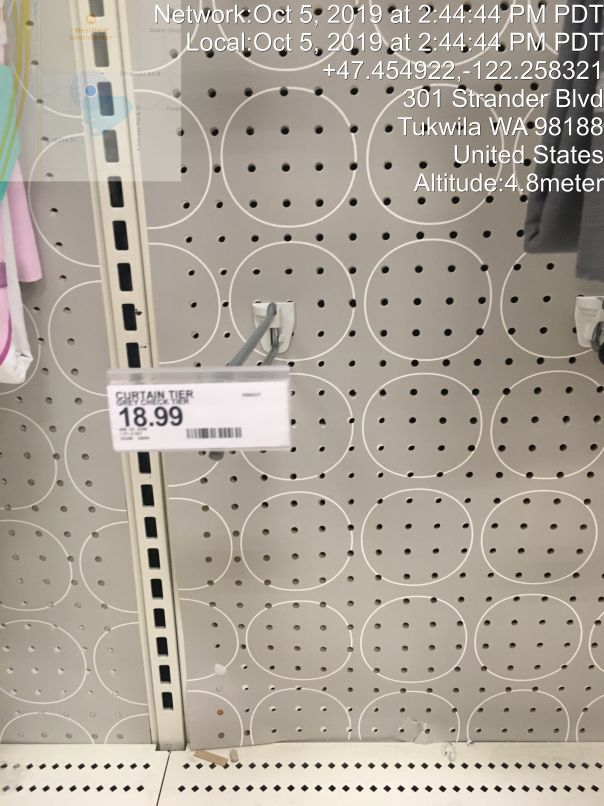Label: (98, 367, 299, 464)
Location: (395, 84, 604, 174)
Time: (150, 3, 604, 57)
Void: (82, 458, 336, 780)
